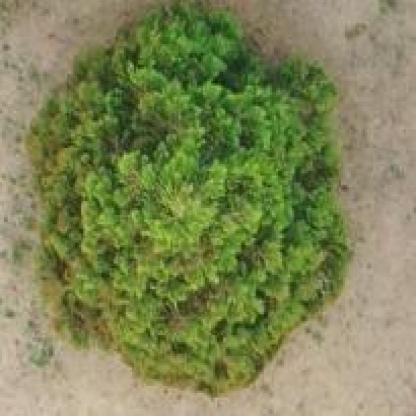Coniferous Tree: (17, 7, 346, 393)
